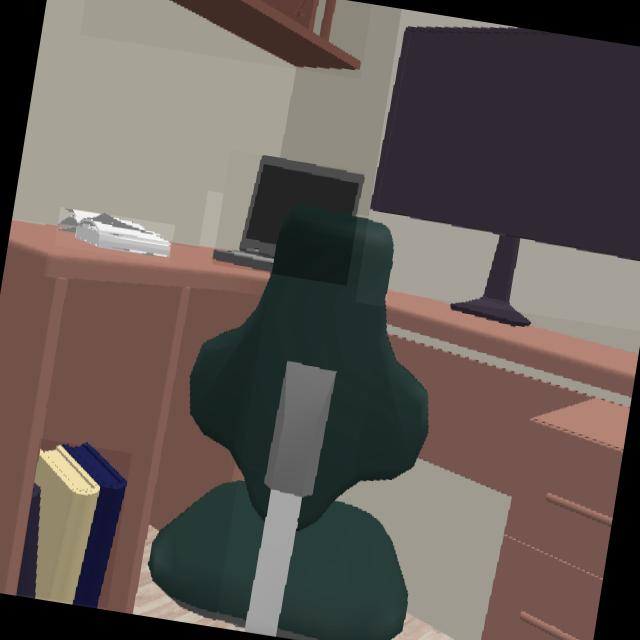book: (15, 445, 127, 608), (57, 210, 170, 260)
cabinet: (166, 0, 362, 69)
chair: (148, 207, 429, 640)
laptop: (213, 156, 364, 274)
monitor: (370, 26, 640, 328)
table: (0, 220, 267, 614), (387, 292, 638, 640)
